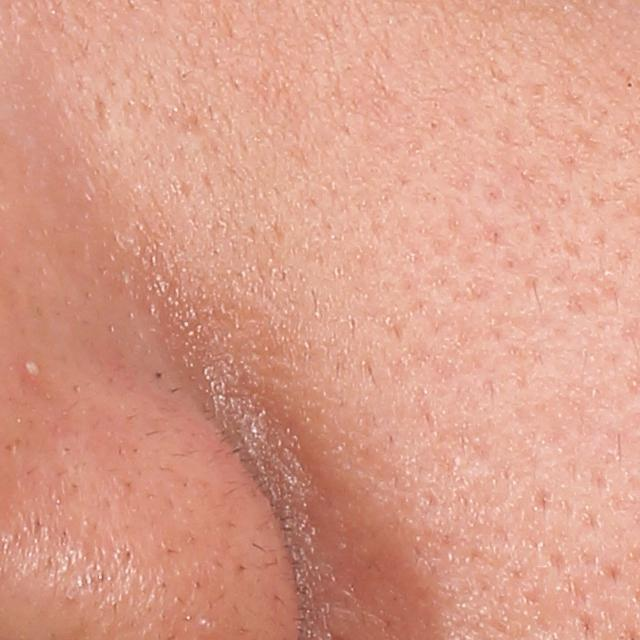atrophic_scar: (94, 95, 113, 134)
comedo: (623, 73, 640, 93)
pustule: (20, 354, 47, 382)
